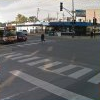crosswalk: (1, 51, 100, 85)
